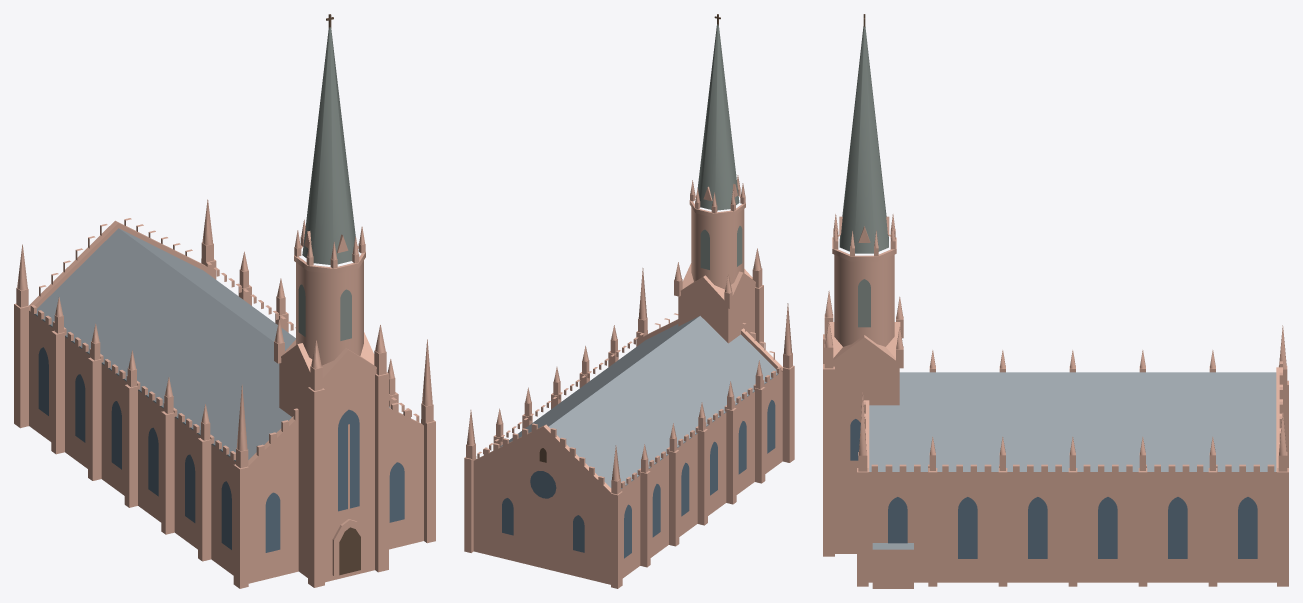
The model's file is cola-first-presbyterian-church.glb.
3 views of the same model, side by side, from view 1: azimuth 30°, elevation 25°; view 2: azimuth 150°, elevation 25°; view 3: azimuth 270°, elevation 25° (orthographic). The views are drawn at different scales.
Parts seen in each view (by area): view 1: First Presbyterian Church; view 2: First Presbyterian Church; view 3: First Presbyterian Church.
Part boxes in pixels (x1=…): First Presbyterian Church: x1=14, y1=14, x2=435, y2=588; First Presbyterian Church: x1=464, y1=14, x2=794, y2=588; First Presbyterian Church: x1=823, y1=14, x2=1288, y2=588.
Size of the model in its own units: 20.4 by 53.2 by 42.8.
